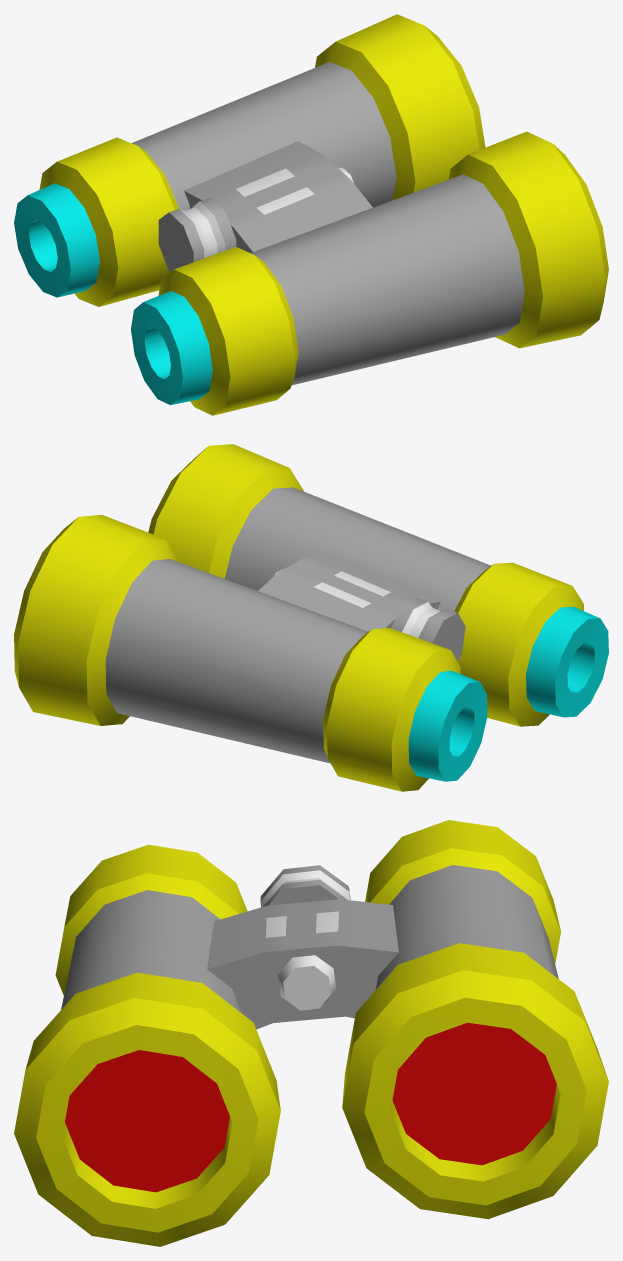
File: BedRoom_Binoculars.fbx
The picture shows the model from 3 angles, top to bottom: view 1: azimuth 30°, elevation 25°; view 2: azimuth 150°, elevation 25°; view 3: azimuth 270°, elevation 25°; orthographic projection. The views are drawn at different scales.
Visible parts, largest first — view 1: BedRoom_Binoculars; view 2: BedRoom_Binoculars; view 3: BedRoom_Binoculars.
Boxes of the visible parts, x1,y1,x2,y2 form: BedRoom_Binoculars: [14, 14, 608, 415]; BedRoom_Binoculars: [14, 444, 608, 791]; BedRoom_Binoculars: [14, 820, 608, 1246].
Size of the model in its own units: 34.89 by 17.07 by 34.08.
